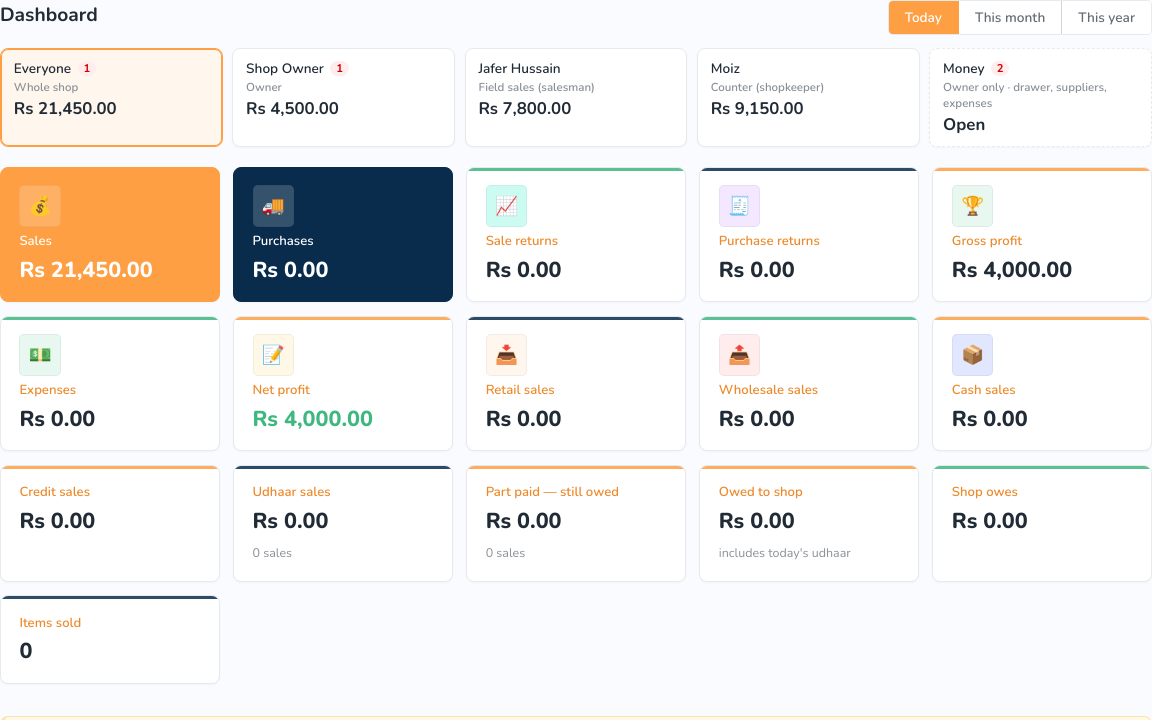
the dashboard lens › opens the owner's money: the drawer, expenses, what he owes and what is owed to him
Step 1. Click the button "Money 2 Owner only · drawer, suppliers, expenses Open" → {"x": 1041, "y": 97}, box [929, 48, 1151, 147]
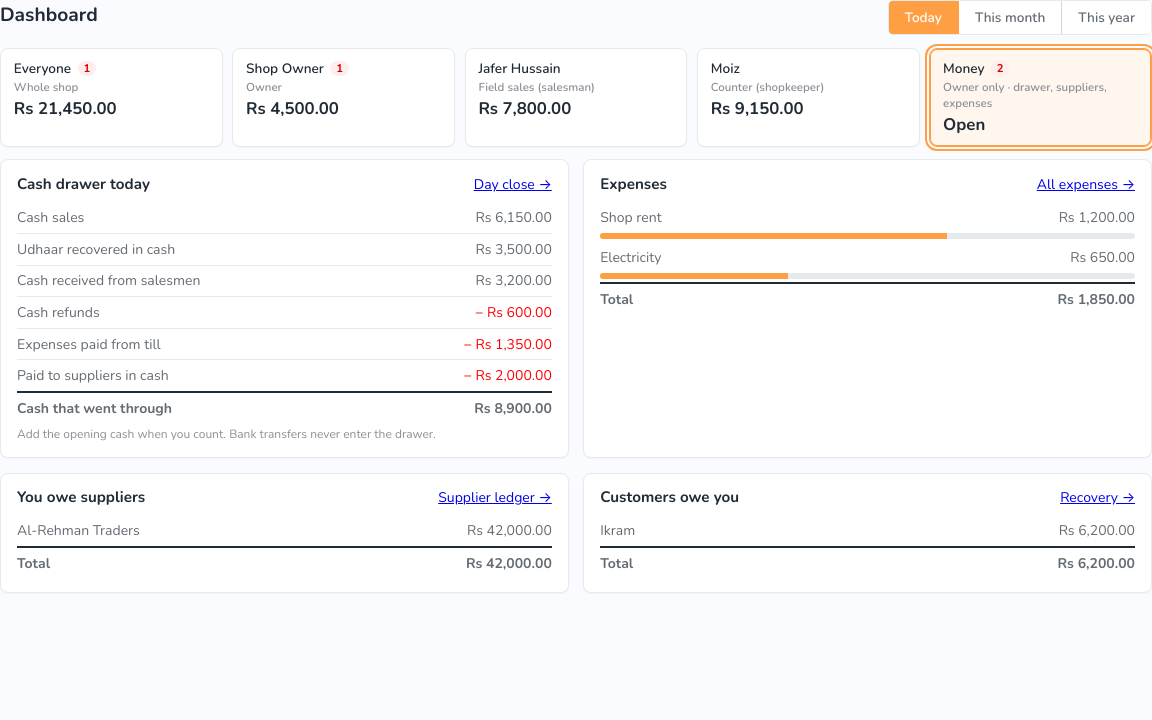
expect the text with test id "money-expected" shows "8,900": met, box [474, 399, 552, 418]
expect the text "Shop rent" is shown: met, box [600, 207, 662, 228]
expect the text "Al-Rehman Traders" is shown: met, box [17, 520, 140, 542]
